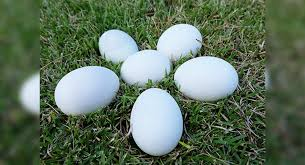eggs: (127, 89, 180, 154), (55, 67, 119, 115), (174, 61, 238, 101), (151, 18, 207, 59), (119, 39, 159, 82), (96, 20, 136, 60)
